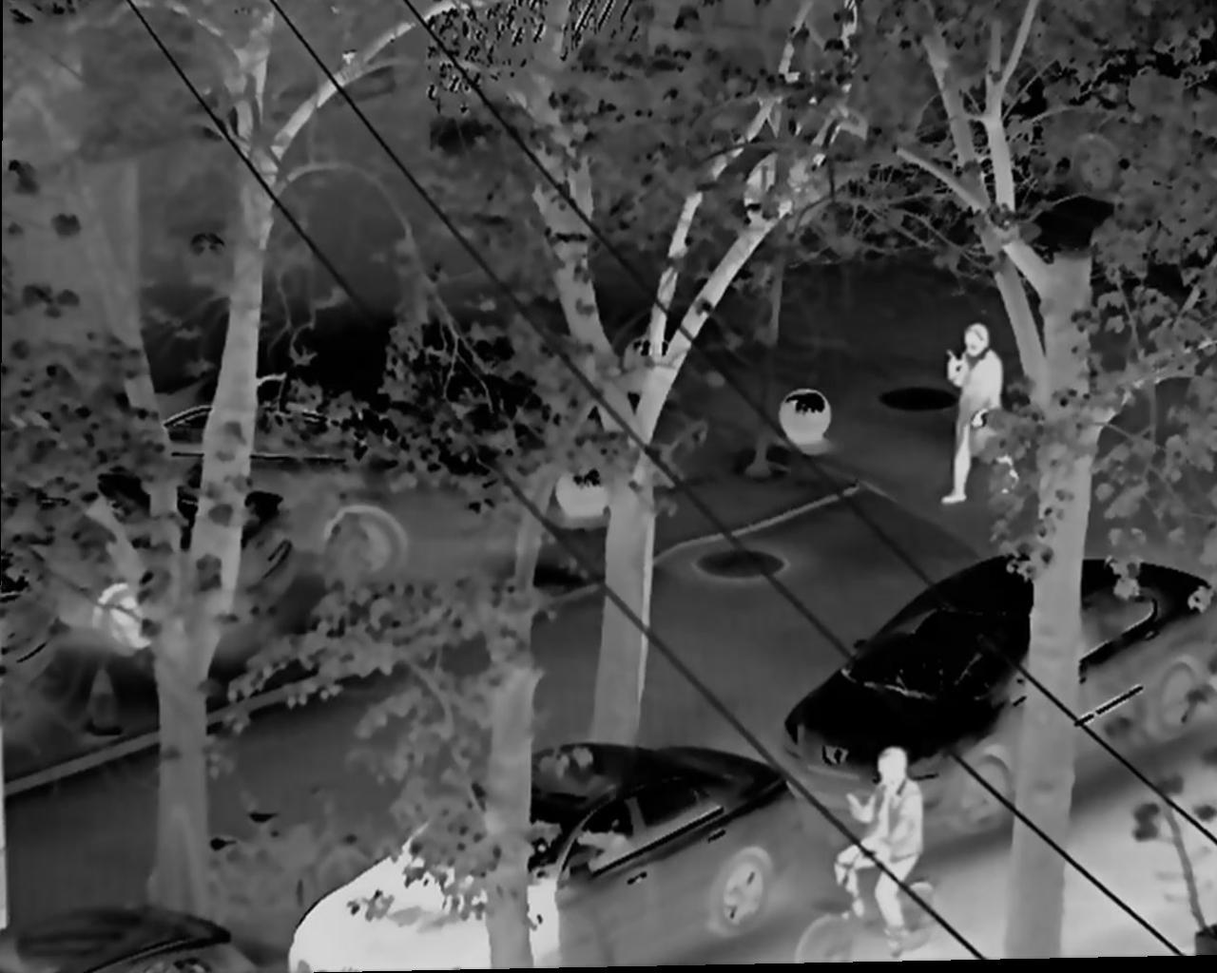person: (840, 746, 924, 955), (939, 322, 1016, 504)
